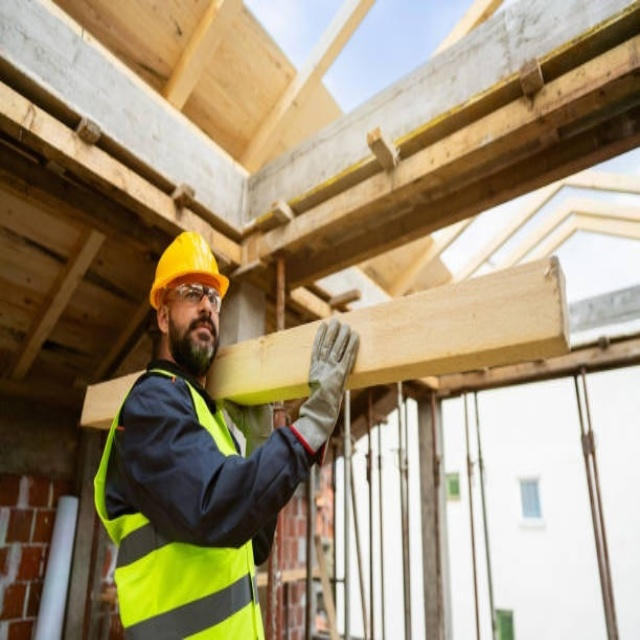Gafas: (166, 283, 222, 313)
Guantes: (291, 320, 357, 457)
Sin_mascara: (188, 314, 215, 350)
